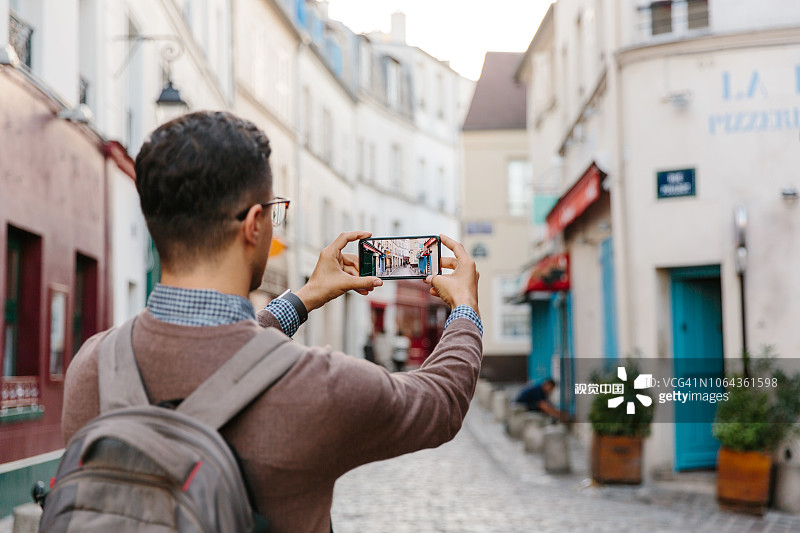taking photos: (294, 216, 490, 320)
